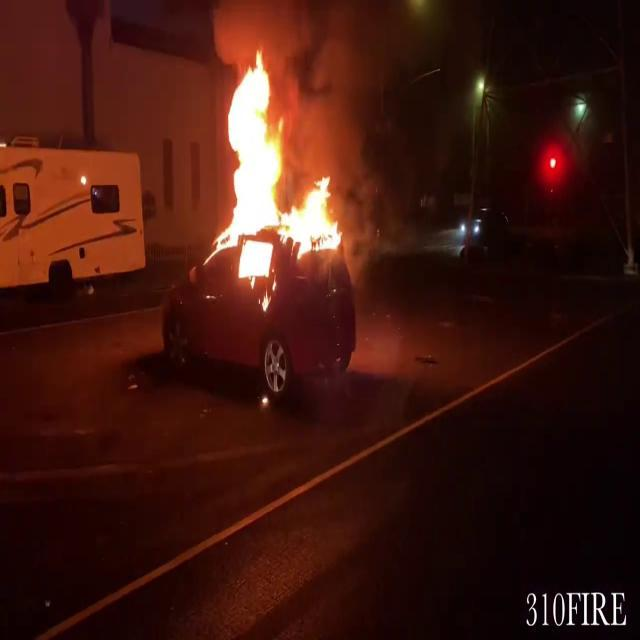Fire: (210, 46, 348, 276)
Smoke: (286, 1, 452, 240)
